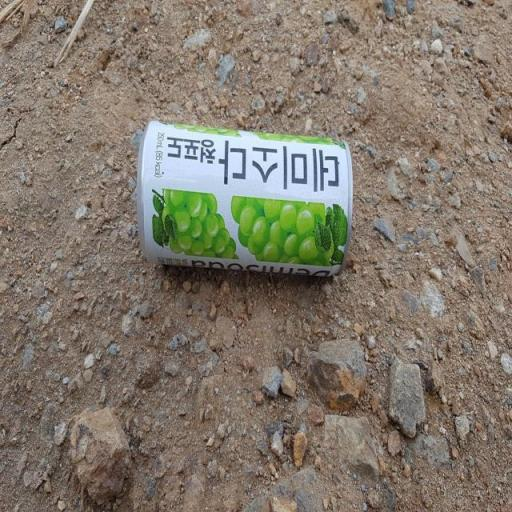metal: (112, 66, 398, 329)
